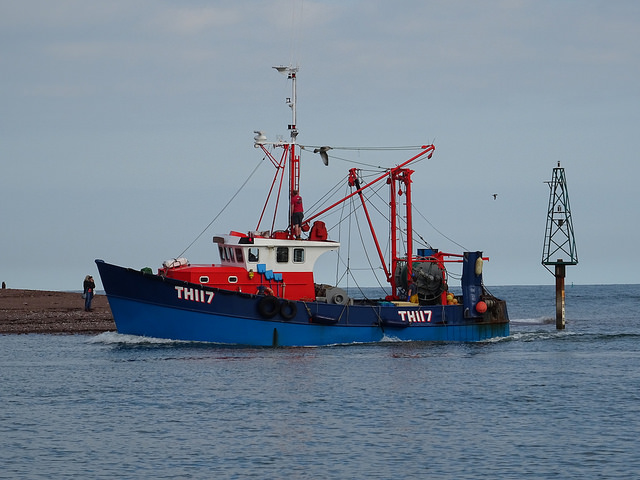fishing_boat: (95, 60, 527, 351)
